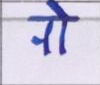o_matra: (57, 1, 72, 56)
